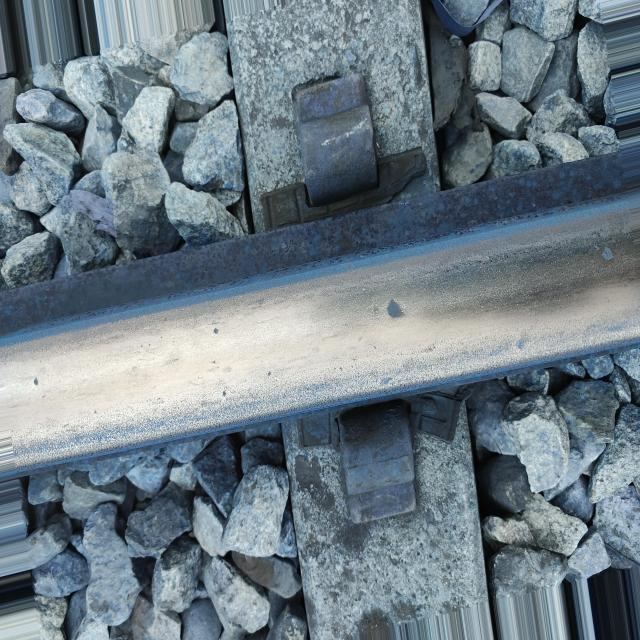broken_rail_medium: (387, 299, 405, 323), (602, 242, 616, 268), (30, 372, 41, 386), (212, 326, 221, 338)
